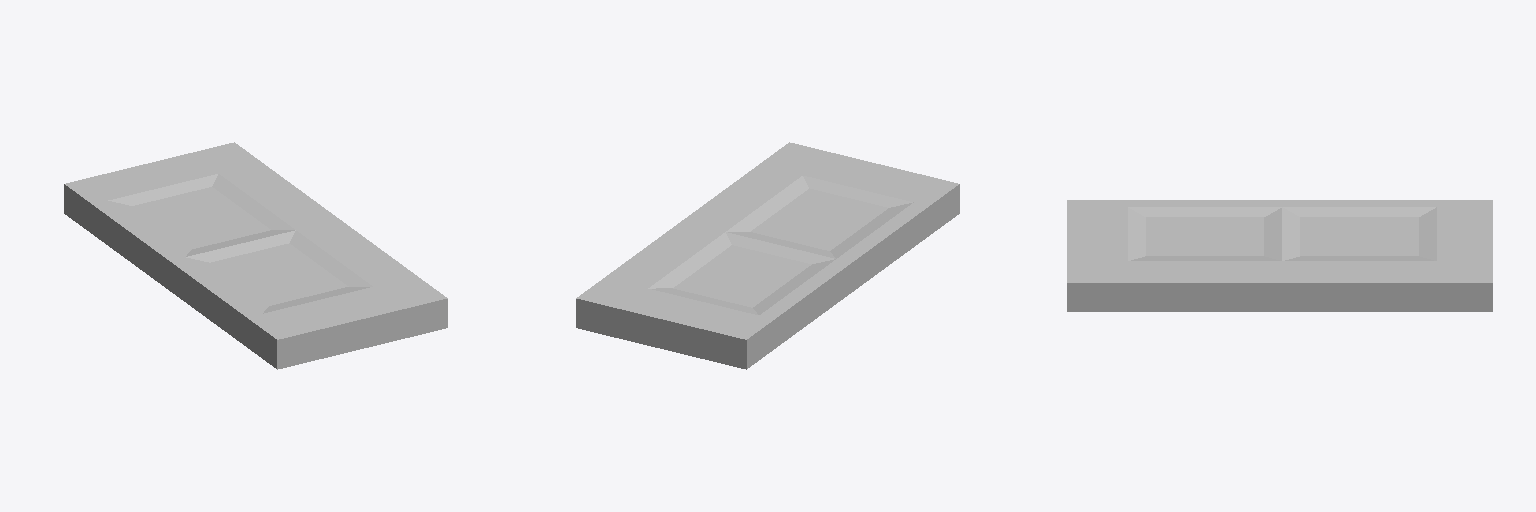
File: Door.obj
3 renders of one model, left to right at view 1: azimuth 30°, elevation 25°; view 2: azimuth 150°, elevation 25°; view 3: azimuth 270°, elevation 25°, orthographic.
Parts seen in each view (by area): view 1: SM_Door_Basic_E; view 2: SM_Door_Basic_E; view 3: SM_Door_Basic_E.
Boxes of the visible parts, <box> form: SM_Door_Basic_E: <box>64,142,447,369</box>; SM_Door_Basic_E: <box>576,142,959,369</box>; SM_Door_Basic_E: <box>1067,200,1492,311</box>.
Bounding box in the file's own units: 47.24 × 7.87 × 102.